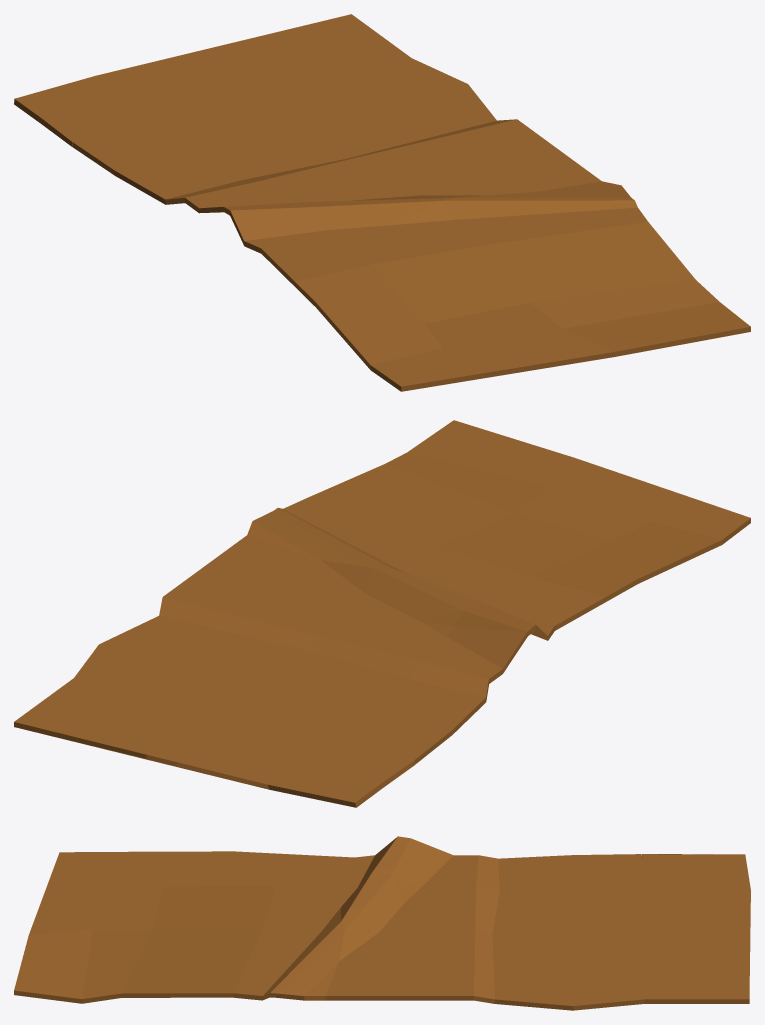
Rendered from rug.fbx.
3 renders of one model, top to bottom at view 1: azimuth 30°, elevation 25°; view 2: azimuth 150°, elevation 25°; view 3: azimuth 270°, elevation 25°, orthographic. The views are drawn at different scales.
Parts seen in each view (by area): view 1: rug; view 2: rug; view 3: rug.
Boxes of the visible parts, box(x1,y1,x2,y2) form: rug: box(14, 14, 750, 391); rug: box(14, 420, 750, 807); rug: box(14, 836, 750, 1010).
Bounding box in the file's own units: 111 × 11.84 × 224.
